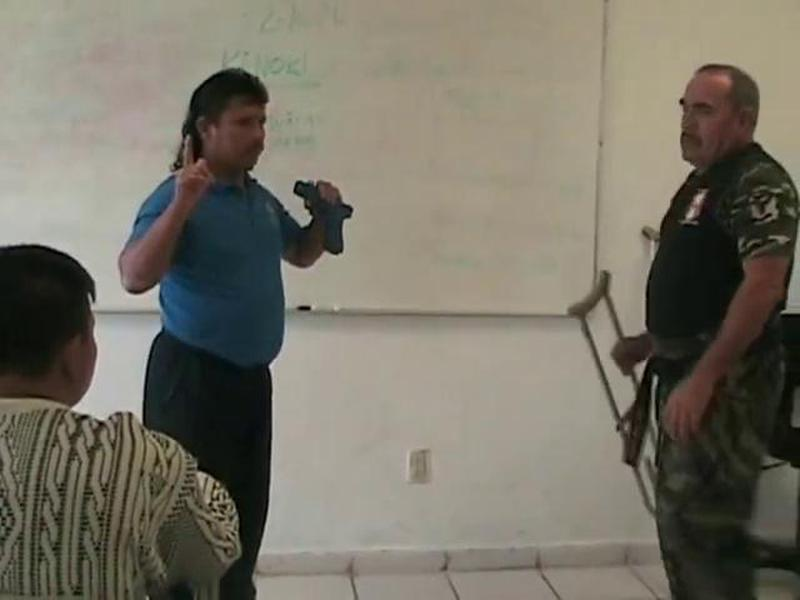Pistola: (277, 165, 370, 278)
